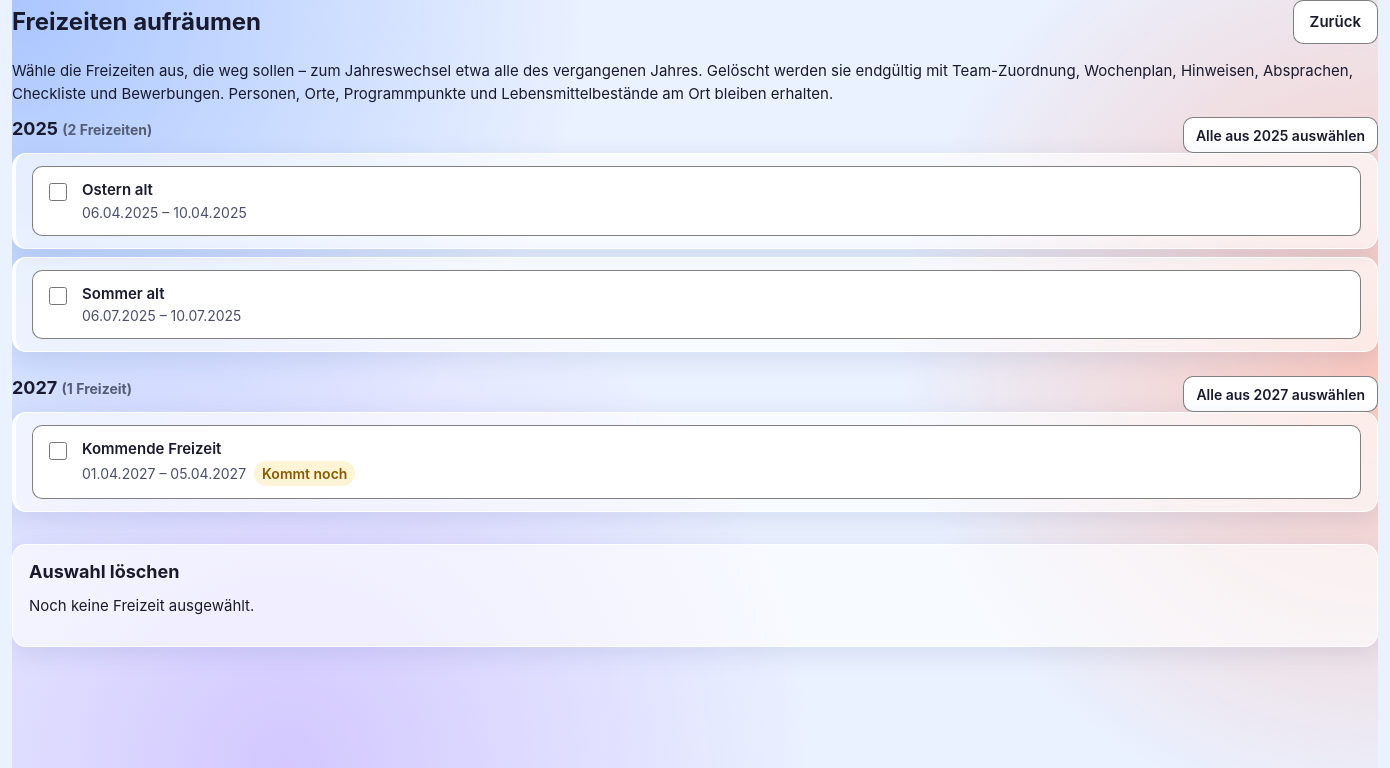
Test: Freizeiten aufräumen › Auswahl eines Jahres lässt sich wieder aufheben
What coordinates should you click on to do the following:
click the button "Alle aus 2025 auswählen"
I would click on:
 (1280, 135)
Its box is [1183, 117, 1378, 153].
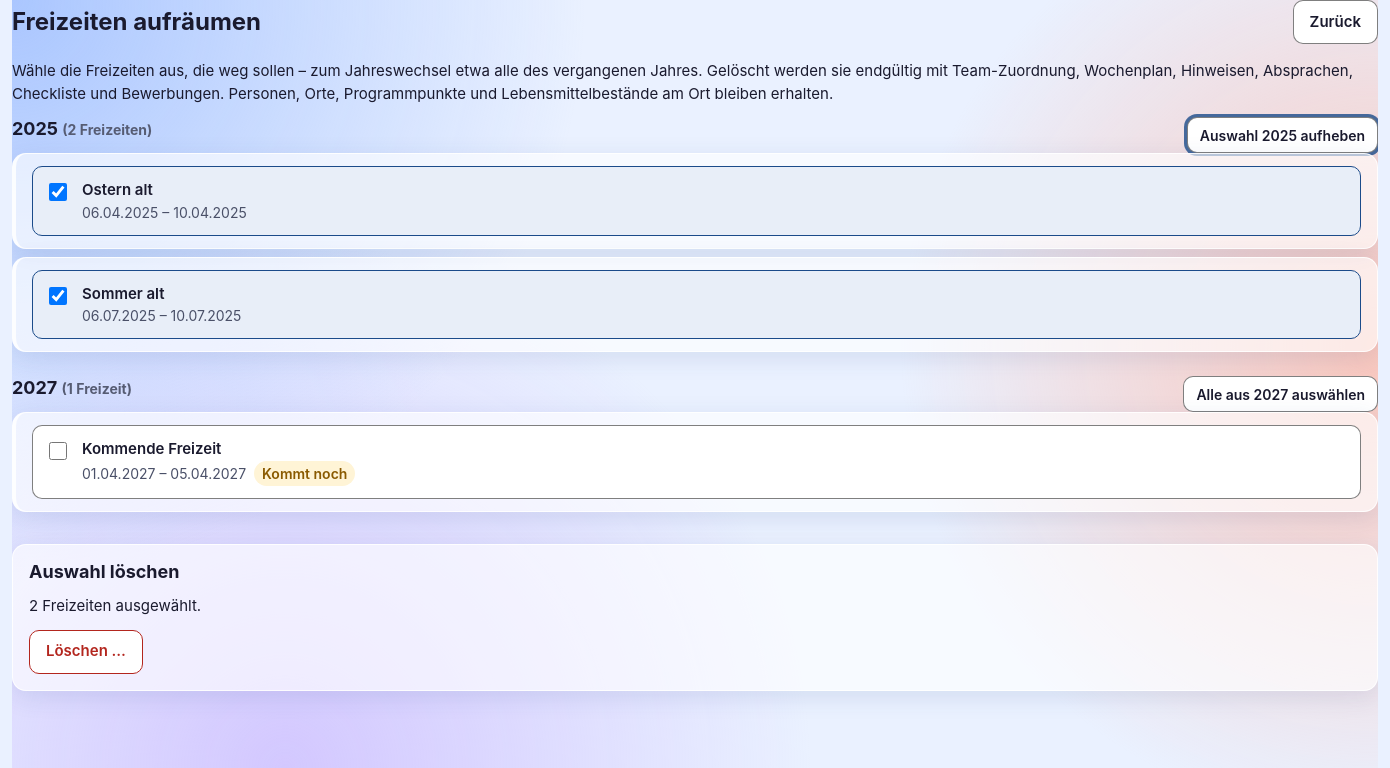
What coordinates should you click on to do the following:
click the button "Auswahl 2025 aufheben"
I would click on:
 (1282, 135)
Its box is [1187, 117, 1378, 153].
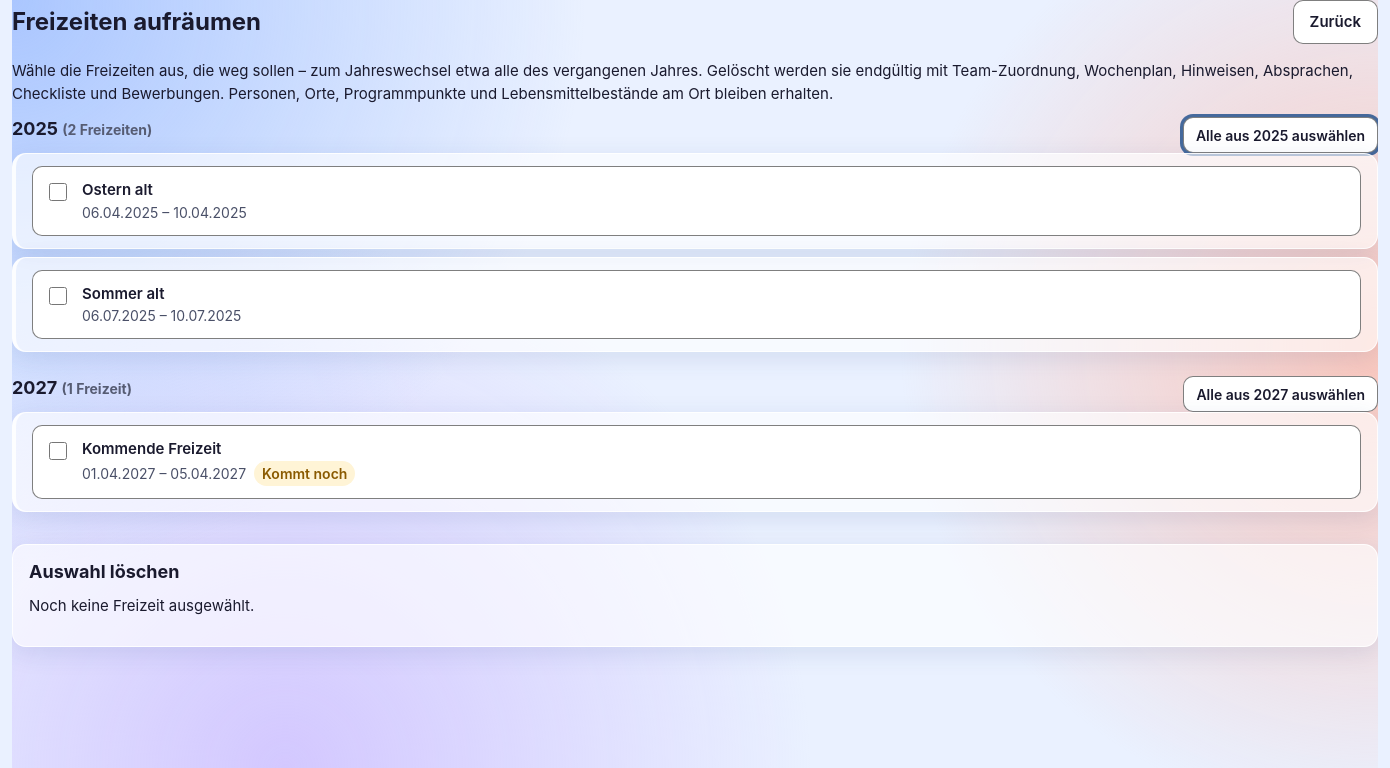
Check: the checkbox labelled "Ostern alt 06.04.2025 – 10.04.2025" is not checked, box [49, 183, 67, 201]
Check: the text "Noch keine Freizeit ausgewählt." is shown, box [29, 596, 254, 615]
